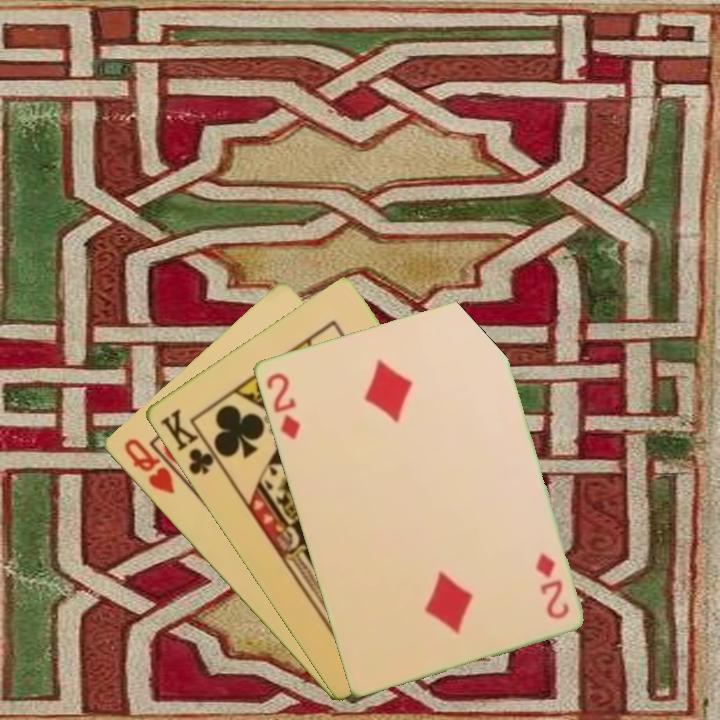2d: (262, 368, 302, 442), (531, 549, 571, 622)
Kc: (156, 405, 224, 478)
Qh: (119, 434, 177, 498)
